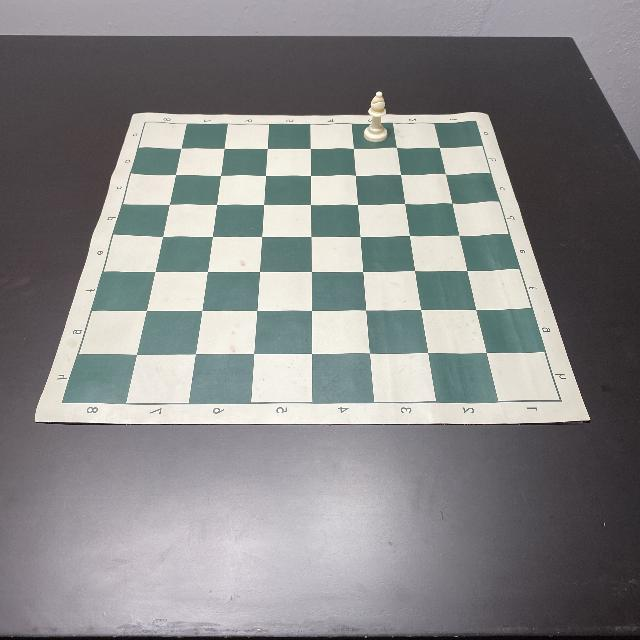board: (34, 111, 590, 426)
white-bishop: (364, 90, 388, 142)
